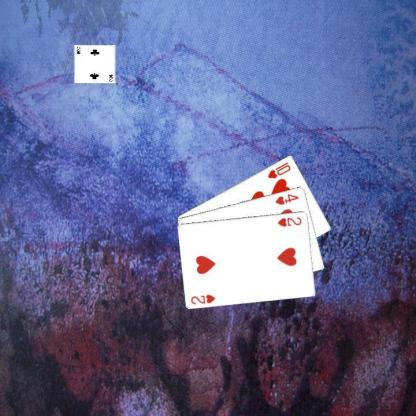10H: (265, 160, 292, 180)
2H: (275, 213, 303, 228), (188, 292, 217, 305)
4H: (273, 191, 300, 206)
